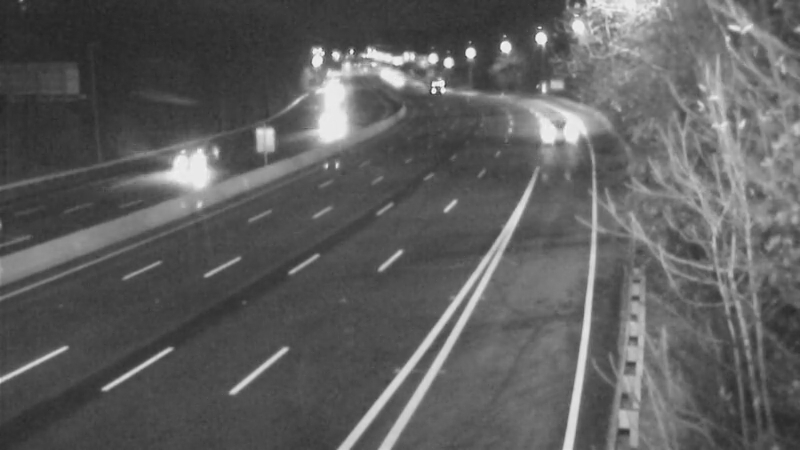vehicle: (155, 128, 235, 208), (408, 63, 458, 113), (372, 58, 422, 108), (527, 99, 577, 149), (299, 97, 349, 147)
